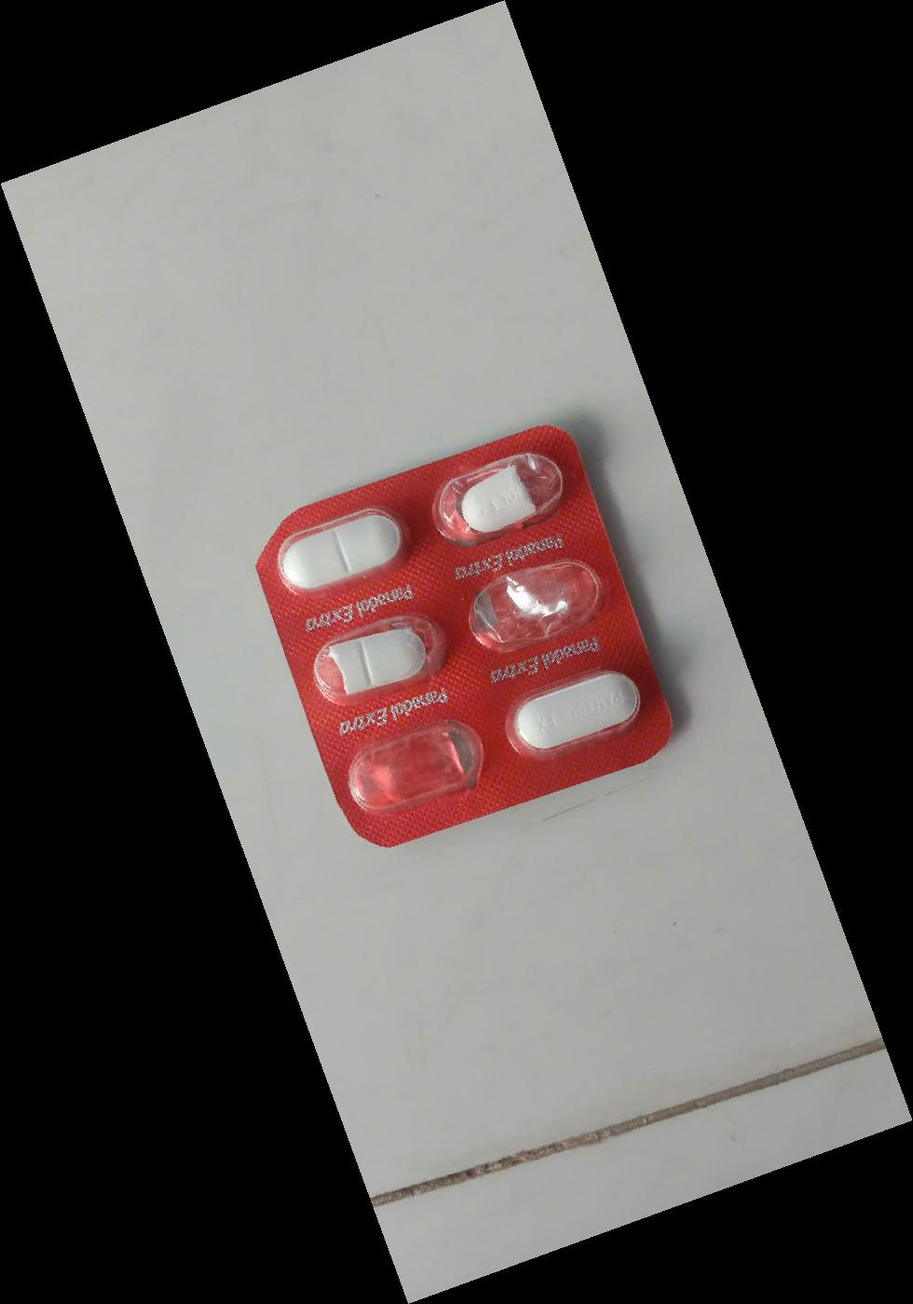Empty: (454, 544, 619, 667), (332, 709, 497, 832)
Full: (260, 491, 425, 613), (493, 652, 658, 774)
Partial: (295, 599, 460, 722), (418, 438, 583, 561)
